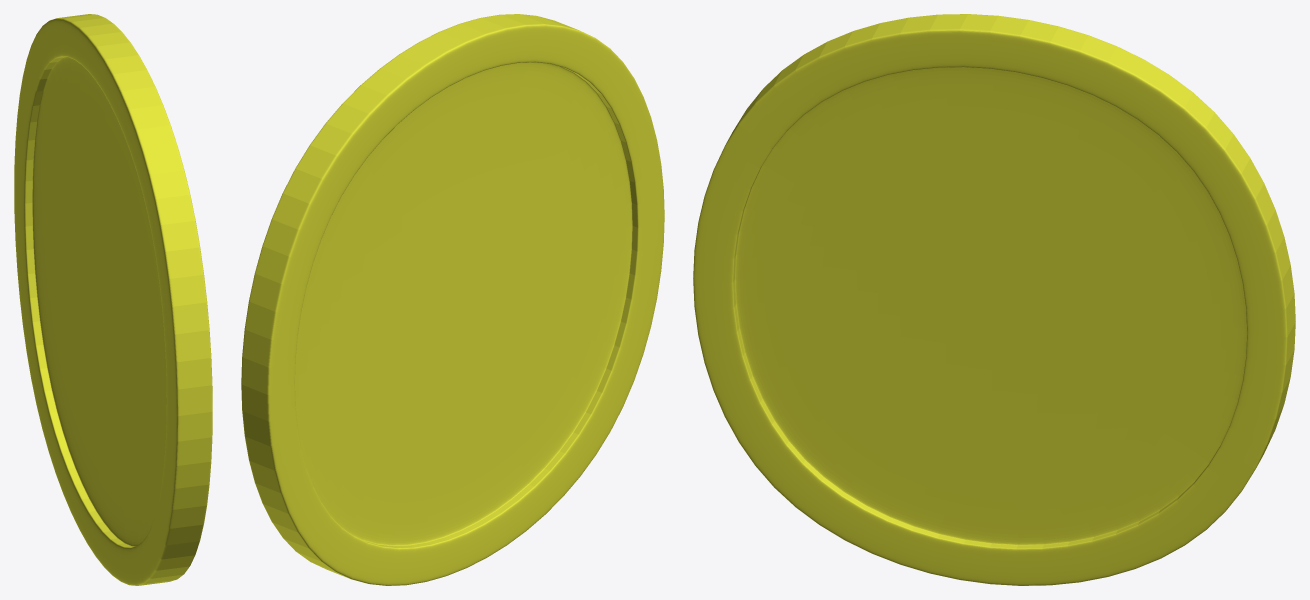
File: coin.glb
3 views of the same model, side by side, from view 1: azimuth 30°, elevation 25°; view 2: azimuth 150°, elevation 25°; view 3: azimuth 270°, elevation 25° (orthographic). The views are drawn at different scales.
Visible parts, largest first — view 1: 立方体; view 2: 立方体; view 3: 立方体.
Boxes of the visible parts, <box> form: 立方体: <box>14,14,212,585</box>; 立方体: <box>241,14,664,585</box>; 立方体: <box>693,14,1295,585</box>.
Size of the model in its own units: 0.1779 by 0.6142 by 0.6066.
